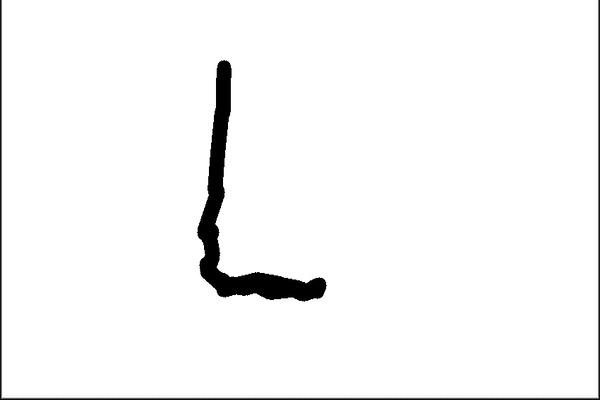L: (189, 57, 334, 306)
